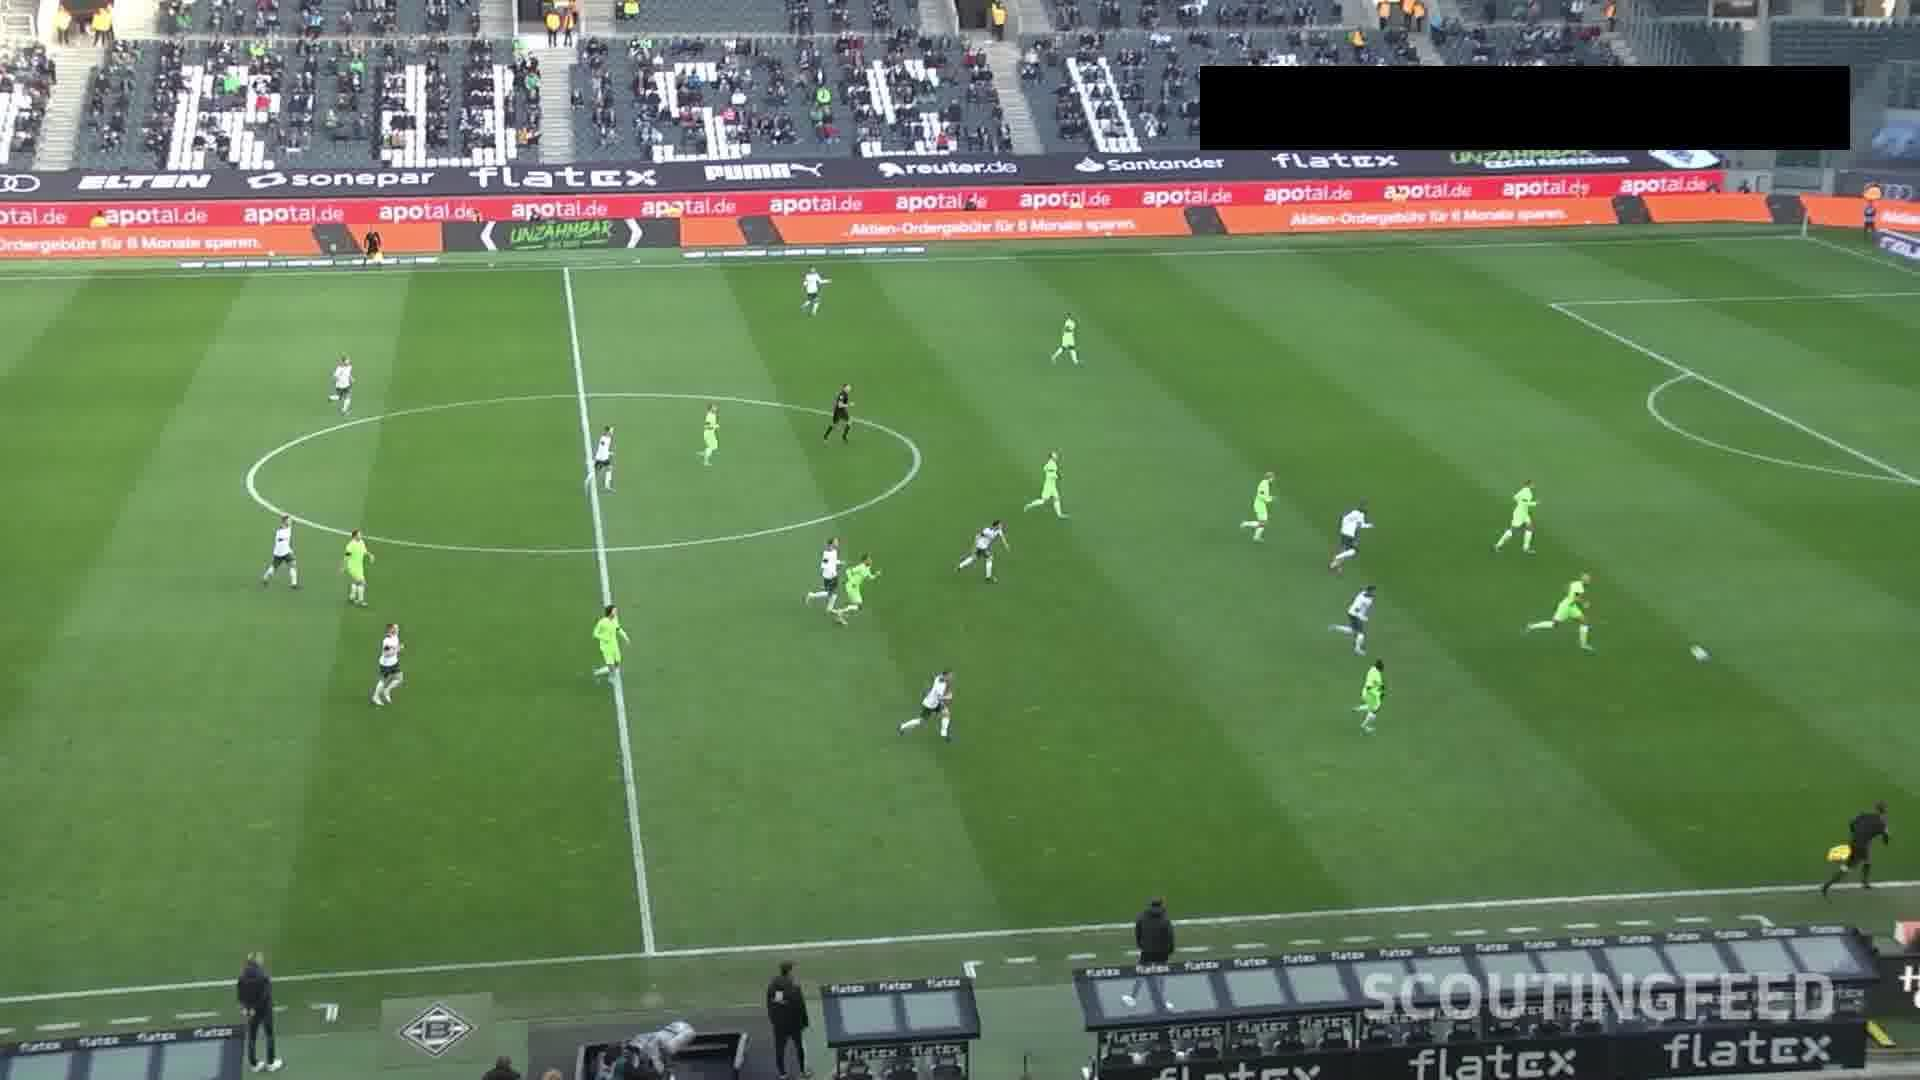football: (1689, 645, 1712, 663)
